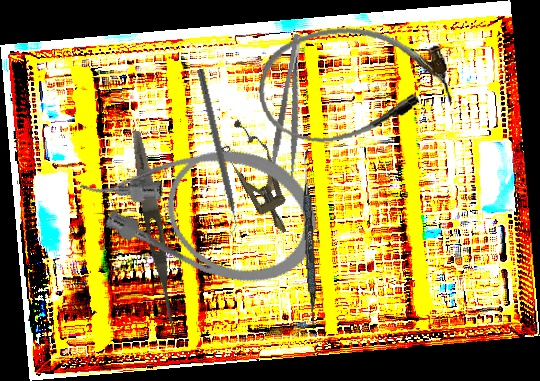Cannula: (67, 106, 331, 301), (251, 16, 457, 150)
Chopper: (188, 68, 242, 238)
Dressing Forceps: (126, 129, 184, 332), (267, 33, 317, 182)
Spatula Surgical: (298, 150, 321, 330)
Speculum: (207, 112, 306, 244)
